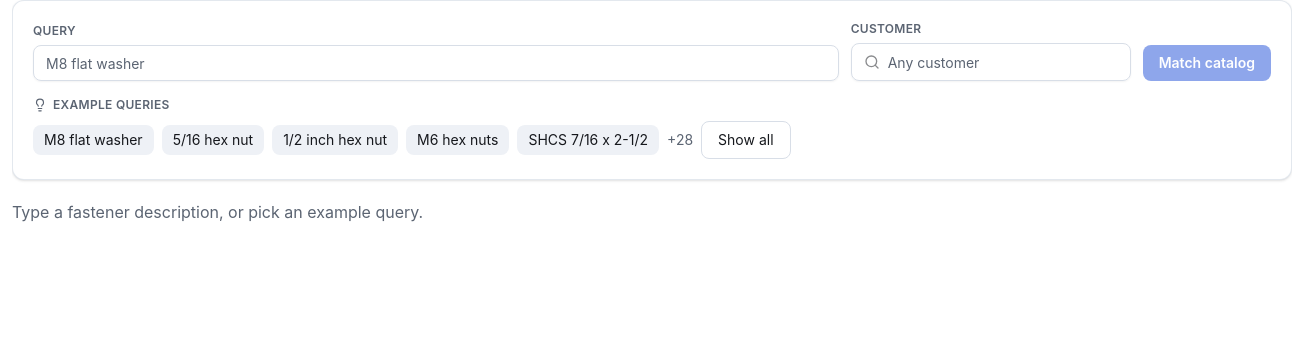
Scenario: ResultsPanel › reports a failing route without pretending it has results
In the field labelled "Query": [436, 63] box [33,45,839,81], type "M12 hex nut"
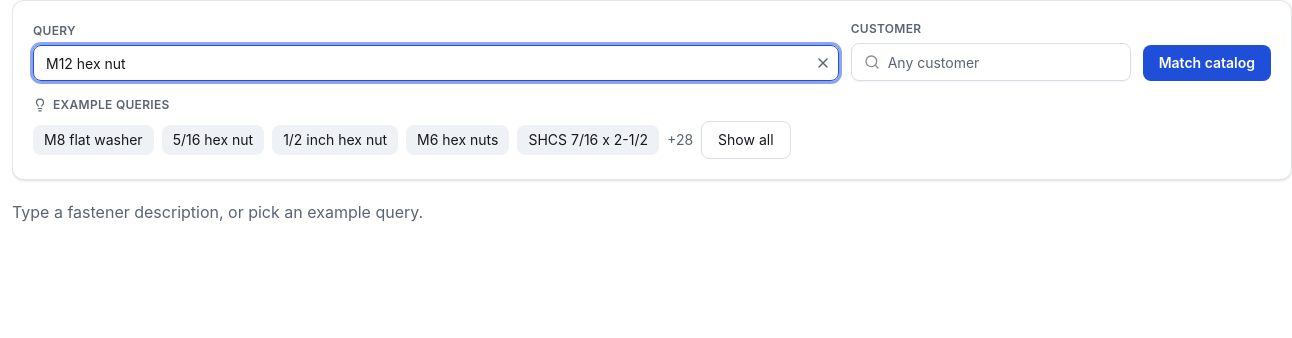
Click the button "Match catalog": [1207, 63] box [1143,45,1271,81]
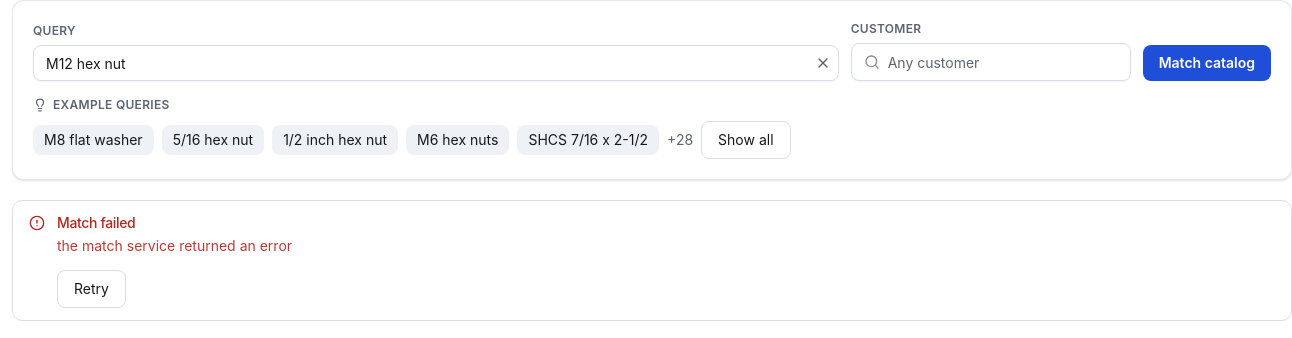
Expected: the message "Match failed the match service returned an error Retry" is shown, [12,200,1291,321]
